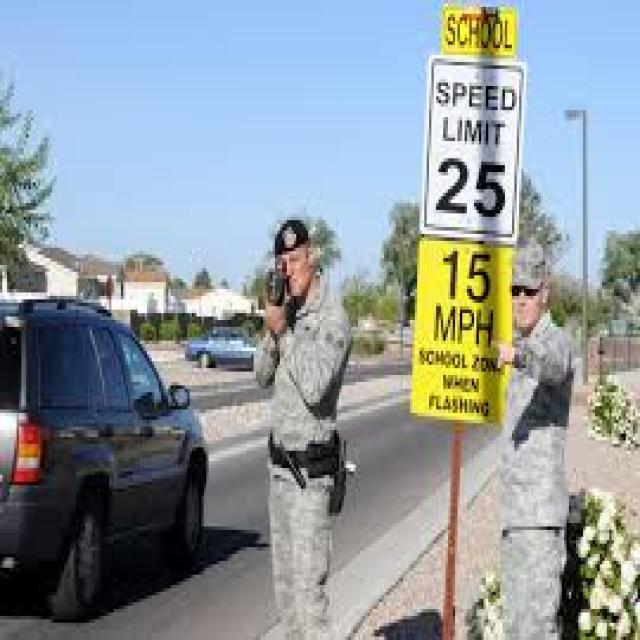speedLimit25: (416, 54, 518, 240)
